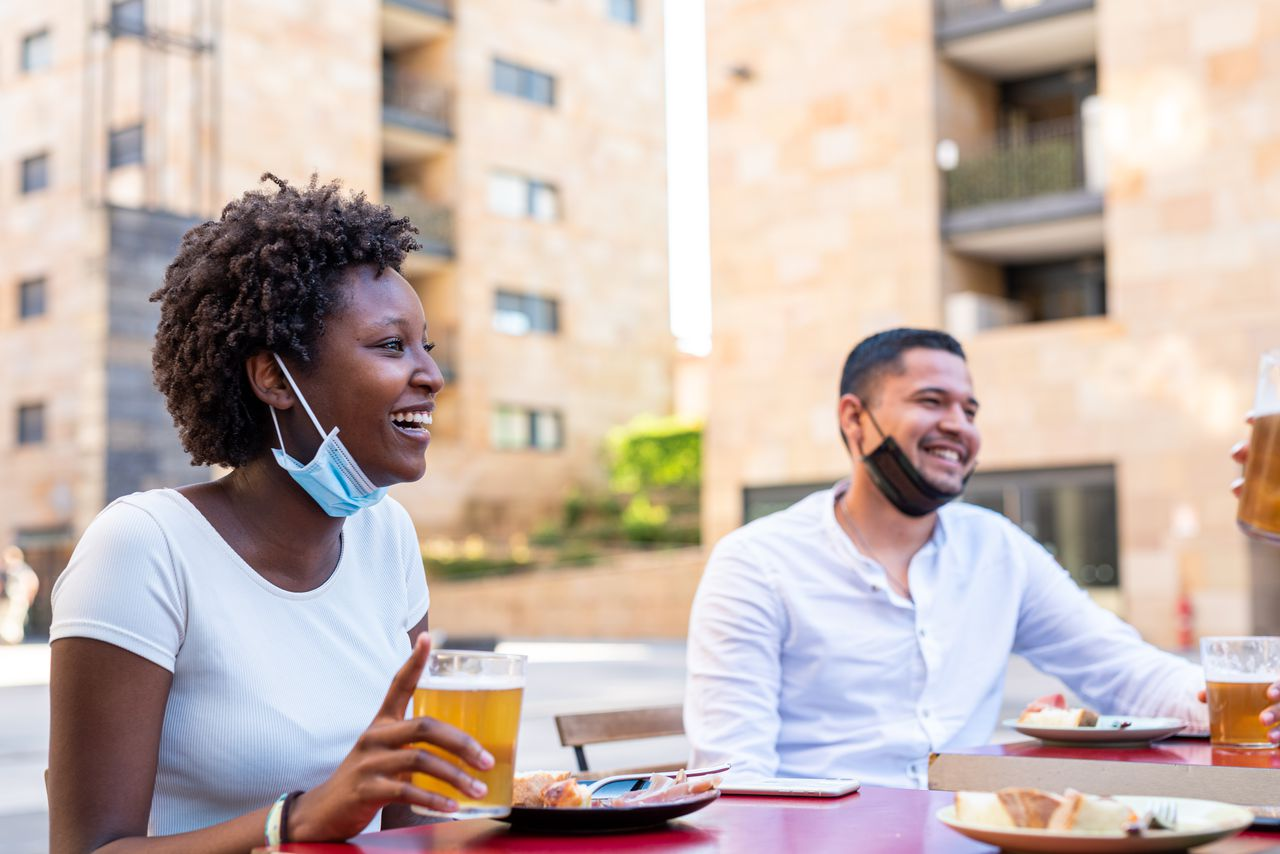with_incorrect_mask: (296, 295, 434, 519), (873, 365, 986, 519)
